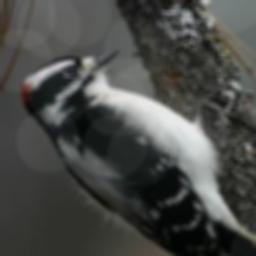Woodpecker: (20, 48, 256, 256)
